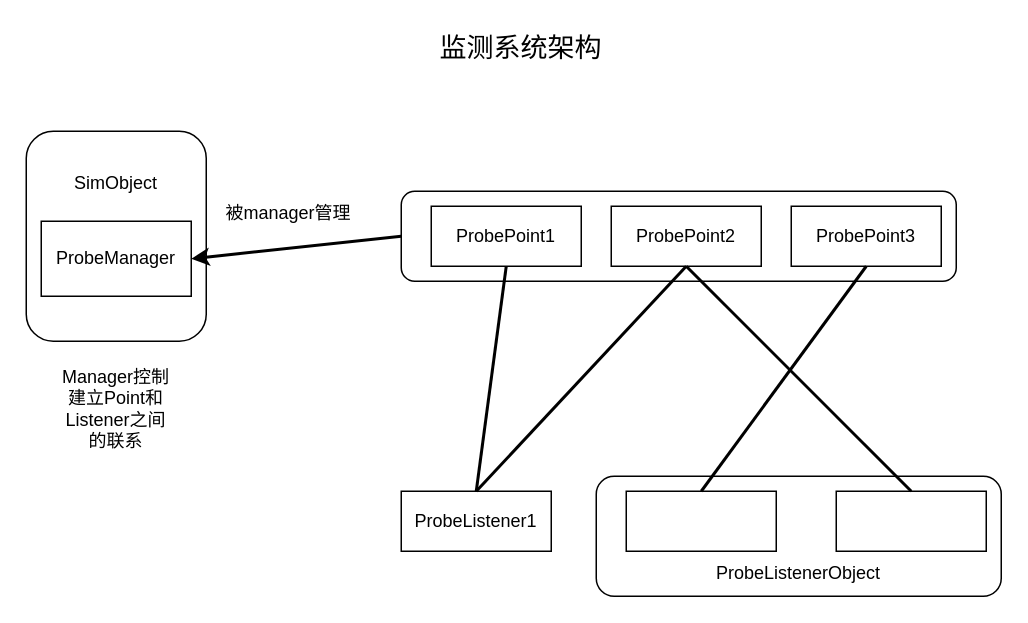
Image size: 1028x623. Some labels were removed from this diagram. The shapes that lost their labels are listed below. From the top down, each one's centre as x and y in pixels, then its label:
the point at 700,520: ProbeListener2
the point at 910,520: ProbeListener3
